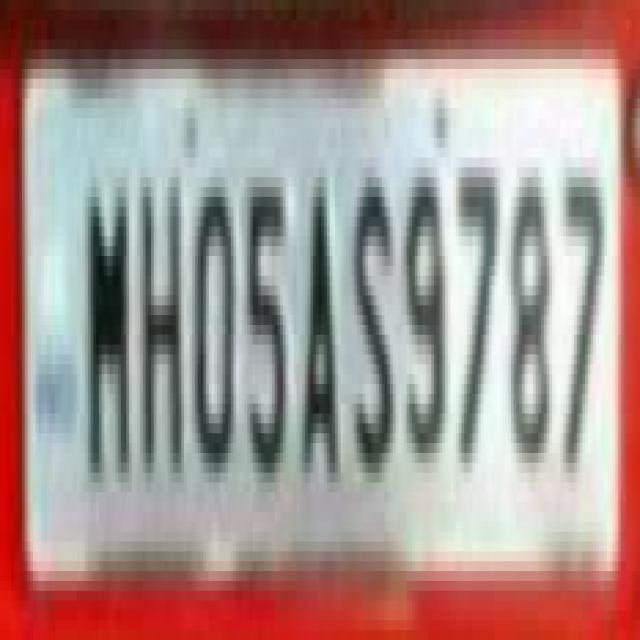license_plate: (36, 19, 626, 590)
